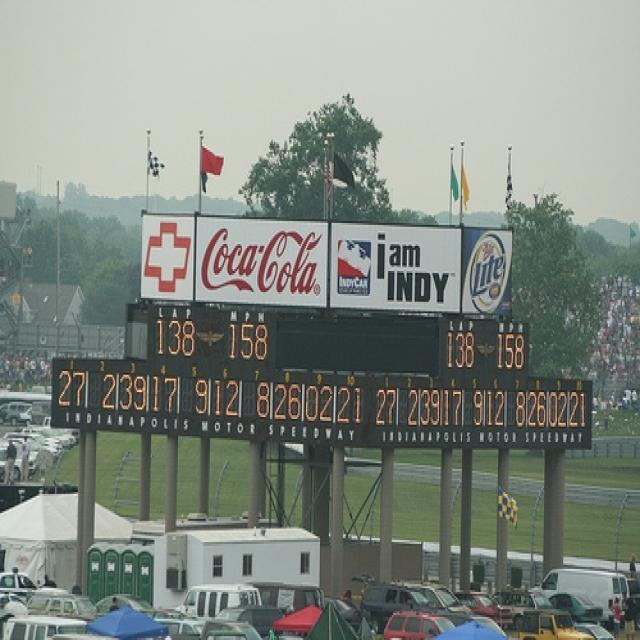cocacola: (200, 222, 326, 303)
